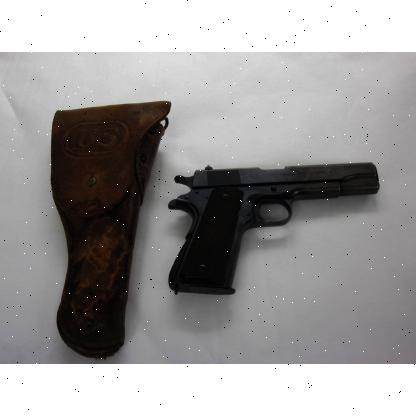gun: (166, 162, 378, 294)
